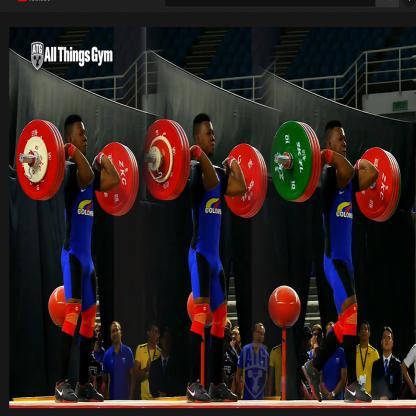Barbell: (269, 115, 322, 208), (140, 114, 192, 208), (12, 115, 65, 204)
